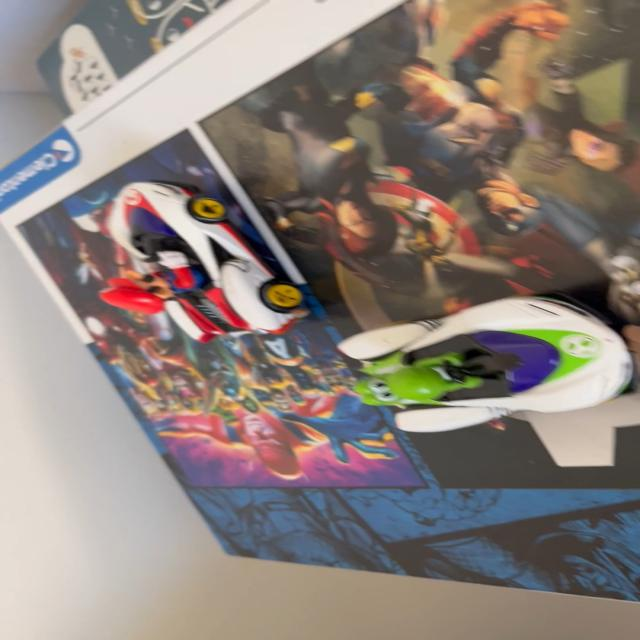mario: (81, 178, 317, 354)
yoshi: (322, 299, 639, 453)
